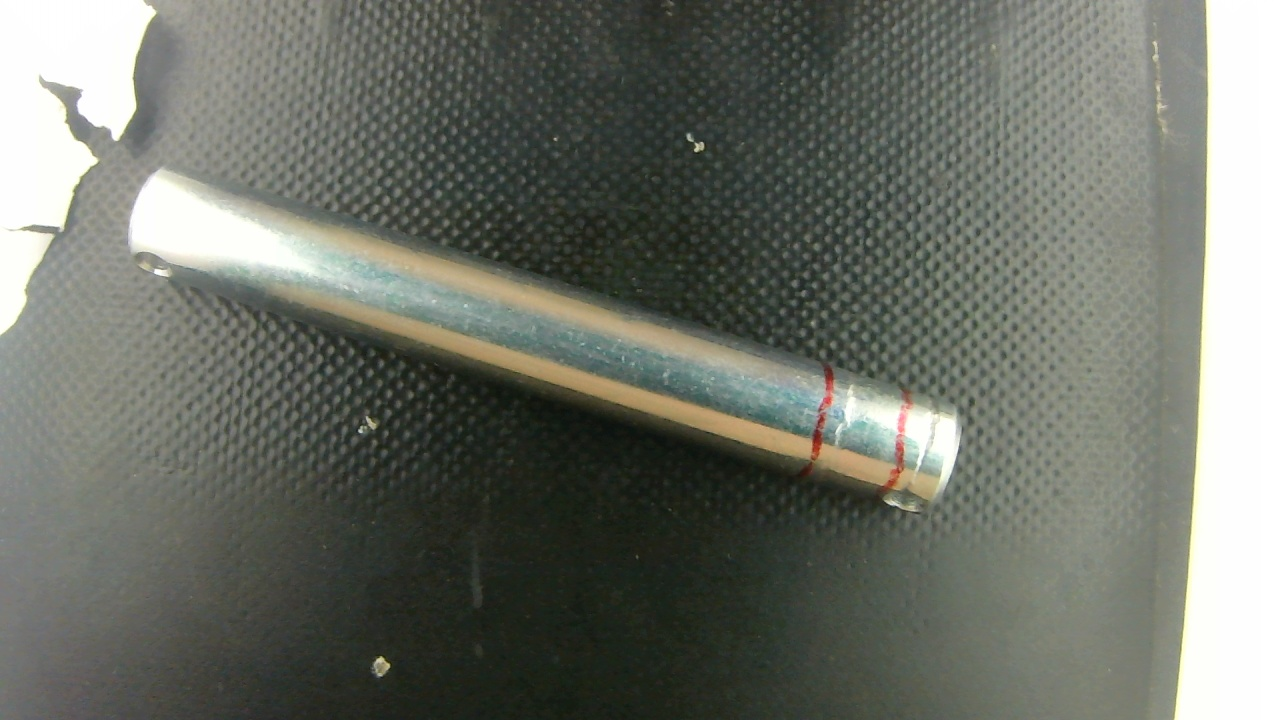odlinemark_pin: (903, 387, 944, 494)
